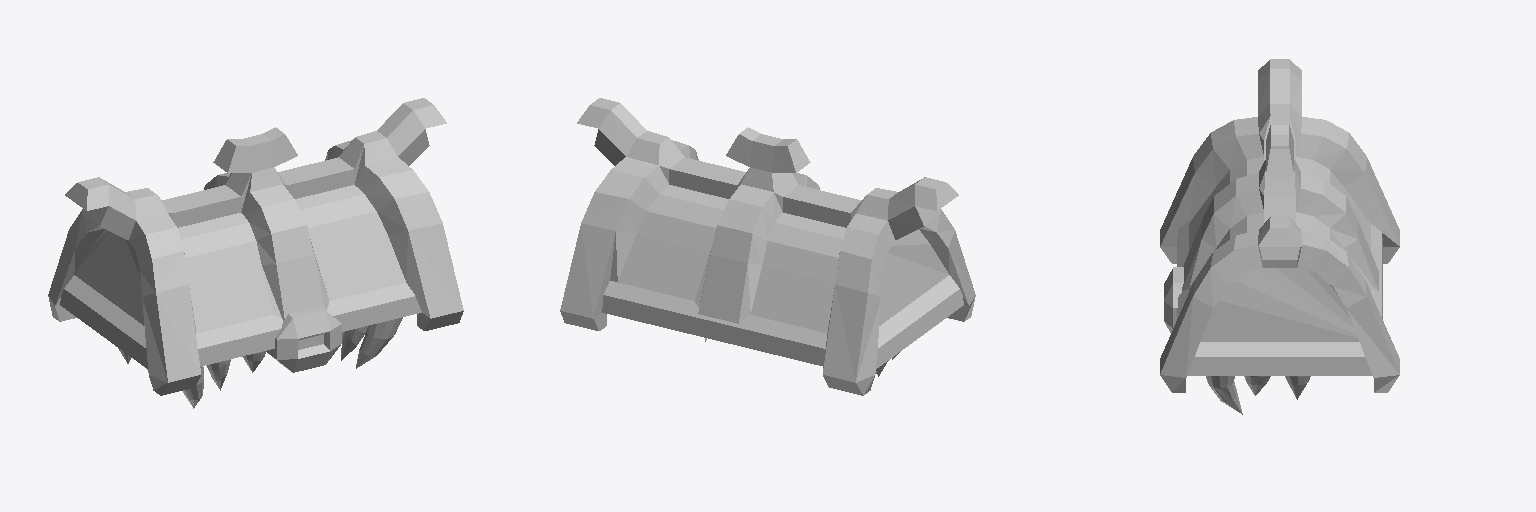
Rendered from chestTop_rare_mimic.obj.
3 views of the same model, side by side, from view 1: azimuth 30°, elevation 25°; view 2: azimuth 150°, elevation 25°; view 3: azimuth 270°, elevation 25° (orthographic).
Parts seen in each view (by area): view 1: chestTop_rare_mimic_Cube.4001; view 2: chestTop_rare_mimic_Cube.4001; view 3: chestTop_rare_mimic_Cube.4001.
Part boxes in pixels (x1,y1,x2,y2): chestTop_rare_mimic_Cube.4001: (48, 98, 463, 408); chestTop_rare_mimic_Cube.4001: (560, 98, 975, 395); chestTop_rare_mimic_Cube.4001: (1160, 59, 1399, 414).
Size of the model in its own units: 2.22 by 1.41 by 1.28.